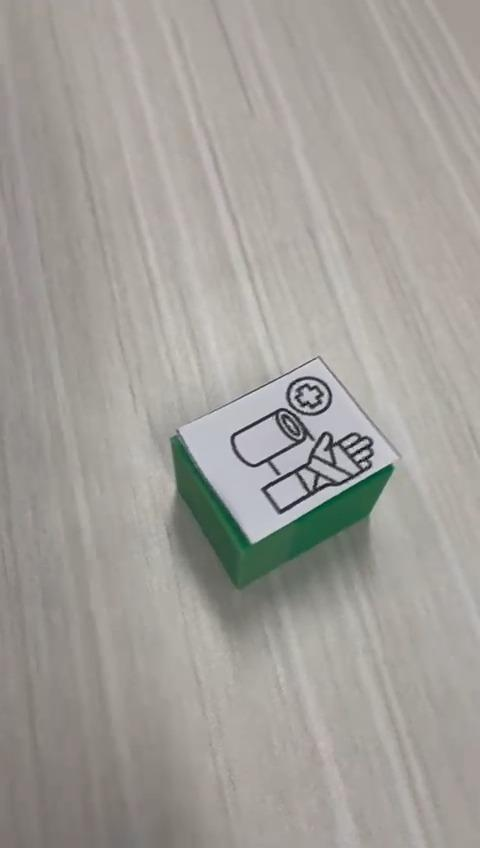Bandages: (168, 355, 401, 590)
